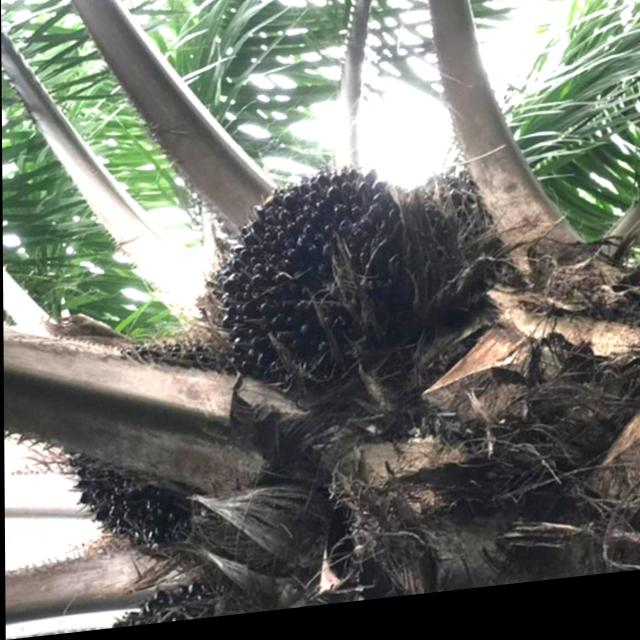almost: (196, 153, 419, 420)
